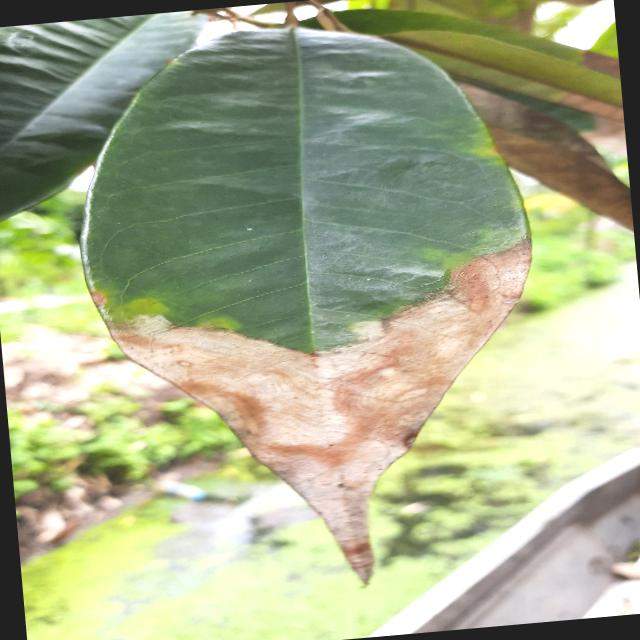Leaf Blight: (53, 0, 575, 614)
